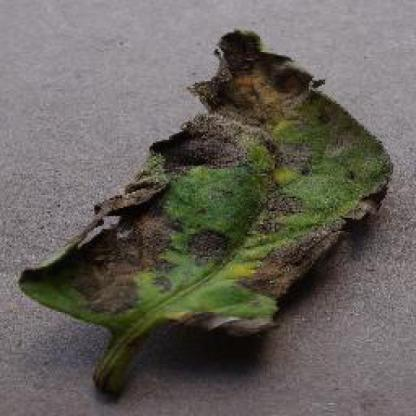Tomato_Blight: (14, 28, 392, 333)
